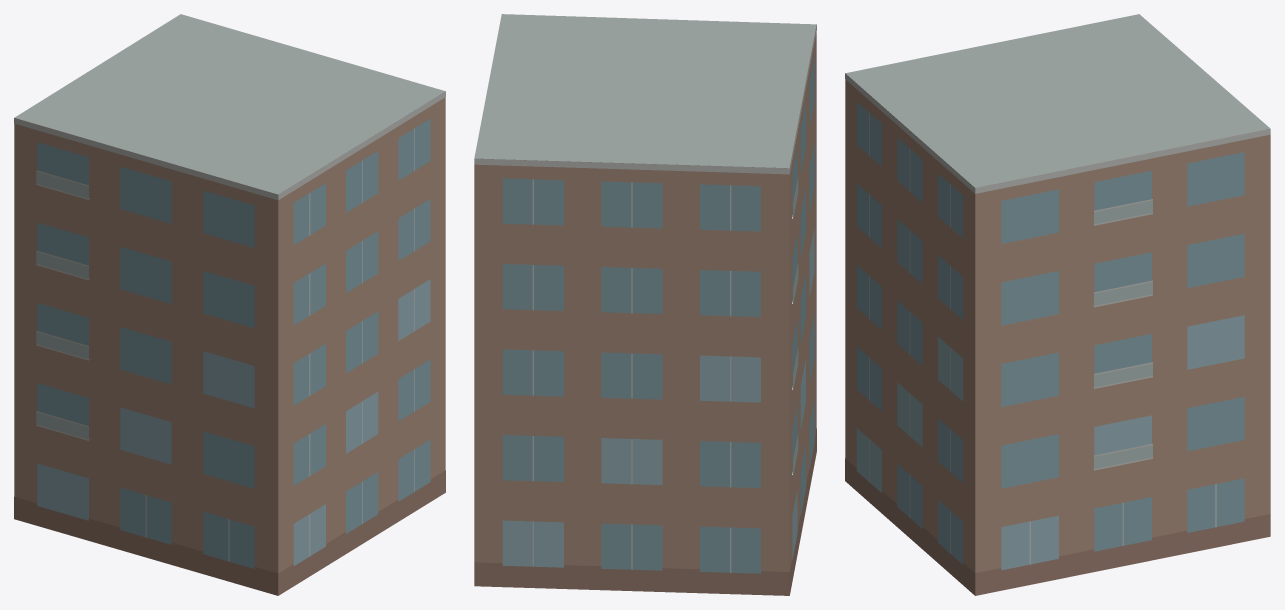
File: survey-upis-32705205.glb
3 renders of one model, left to right at view 1: azimuth 30°, elevation 25°; view 2: azimuth 150°, elevation 25°; view 3: azimuth 270°, elevation 25°, orthographic. The views are drawn at different scales.
Parts seen in each view (by area): view 1: survey-upis-32705205.tmp; view 2: survey-upis-32705205.tmp; view 3: survey-upis-32705205.tmp.
Boxes of the visible parts, x1=… form: survey-upis-32705205.tmp: x1=14, y1=14, x2=445, y2=595; survey-upis-32705205.tmp: x1=474, y1=14, x2=816, y2=595; survey-upis-32705205.tmp: x1=845, y1=14, x2=1270, y2=595.
Bounding box in the file's own units: 15.47 × 16.9 × 15.99.
